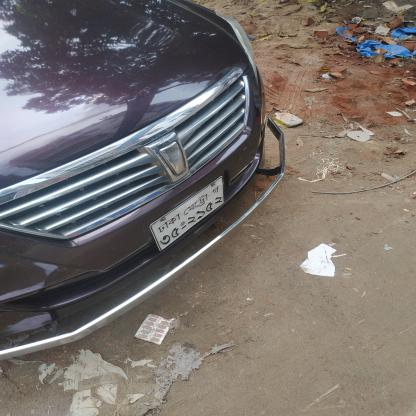license_plate: (151, 176, 225, 254)
